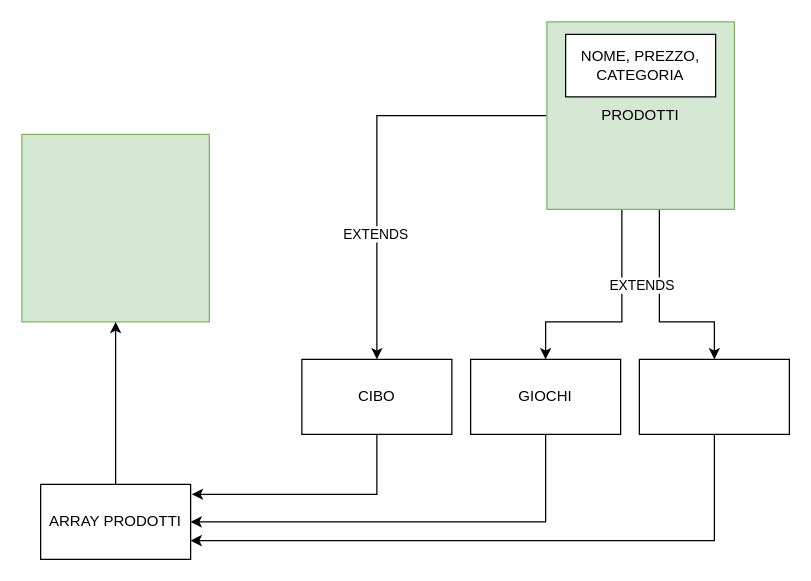
Some shapes in this 811 by 581 pixel diagram are drawn without their labels. Here are the shapes that lost their labels. From the top down, the centre of each, then its label:
At [115,227]: "CATEGORIE ANIMALI".
At [713,396]: "ACCESSORI".
